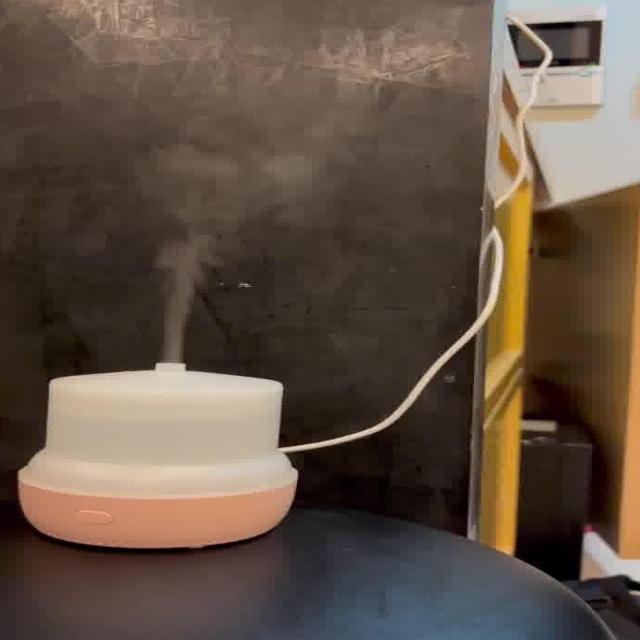fire: (132, 142, 346, 360)
